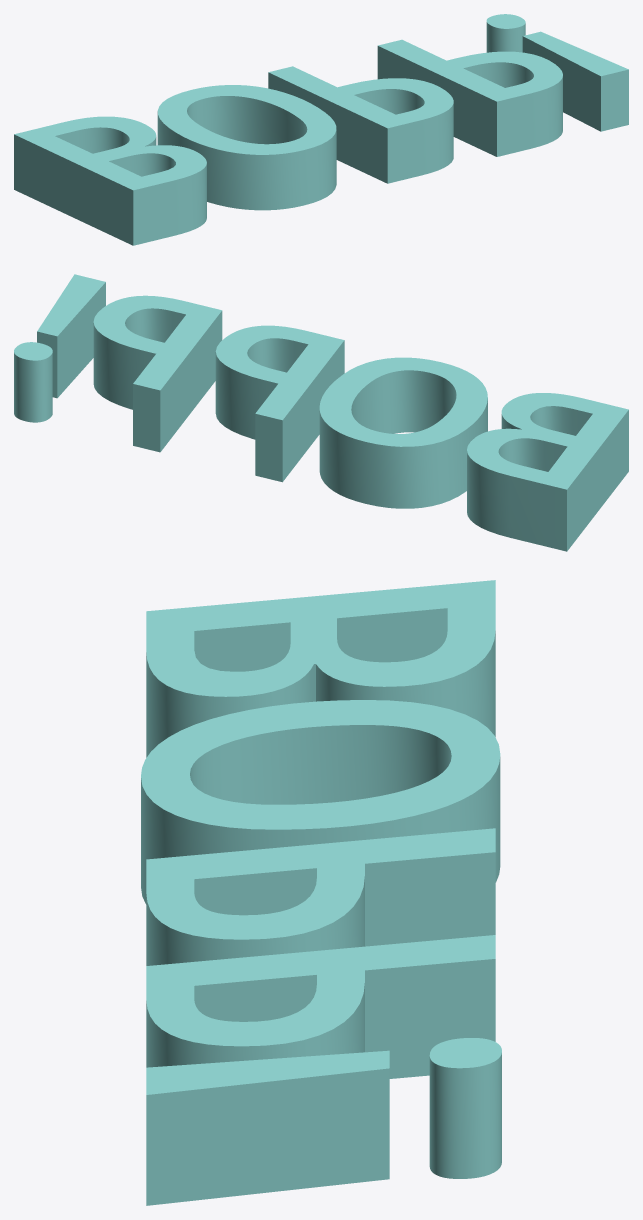
The model's file is Bopp_italic.obj.
3 renders of one model, top to bottom at view 1: azimuth 30°, elevation 25°; view 2: azimuth 150°, elevation 25°; view 3: azimuth 270°, elevation 25°, orthographic. The views are drawn at different scales.
Visible parts, largest first — view 1: 000_B, 001_O, 003_P, 002_P, 004_!; view 2: 001_O, 000_B, 003_P, 002_P, 004_!; view 3: 001_O, 004_!, 000_B, 003_P, 002_P.
Boxes of the visible parts, x1,y1,x2,y2 form: 000_B: (14,116,206,245); 001_O: (157,85,336,210); 003_P: (377,39,562,156); 002_P: (268,66,453,183); 004_!: (486,14,628,131); 001_O: (319,357,487,508); 000_B: (467,393,628,551); 003_P: (93,295,222,452); 002_P: (215,325,344,482); 004_!: (14,274,105,422); 001_O: (141,700,500,904); 004_!: (146,1038,501,1205); 000_B: (146,580,495,757); 003_P: (146,935,495,1078); 002_P: (146,828,495,965).
Bounding box in the file's own units: 249 × 25 × 73.83.
